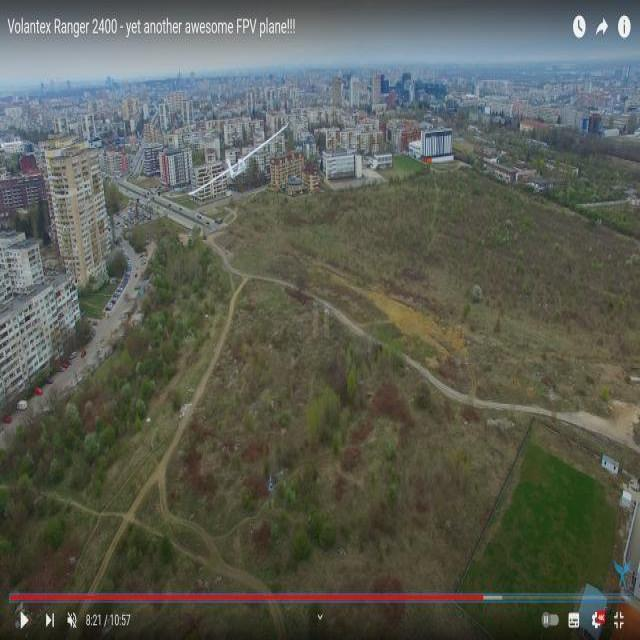iha: (220, 145, 262, 168)
